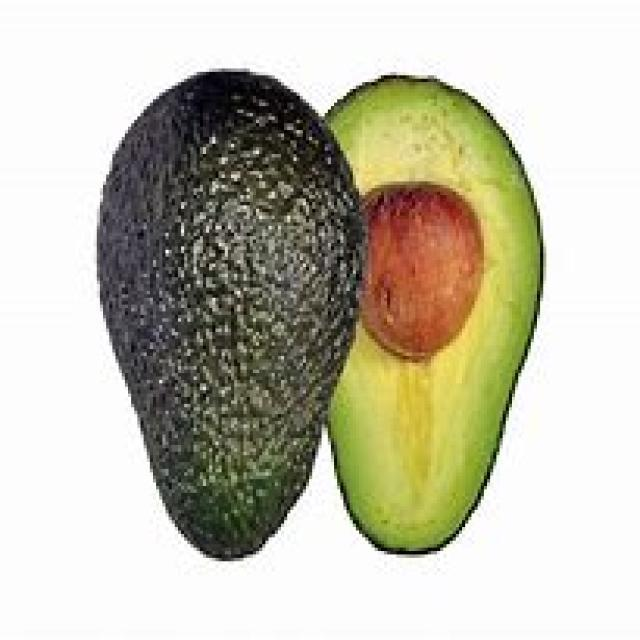avocado: (97, 72, 359, 564), (290, 73, 548, 559)
